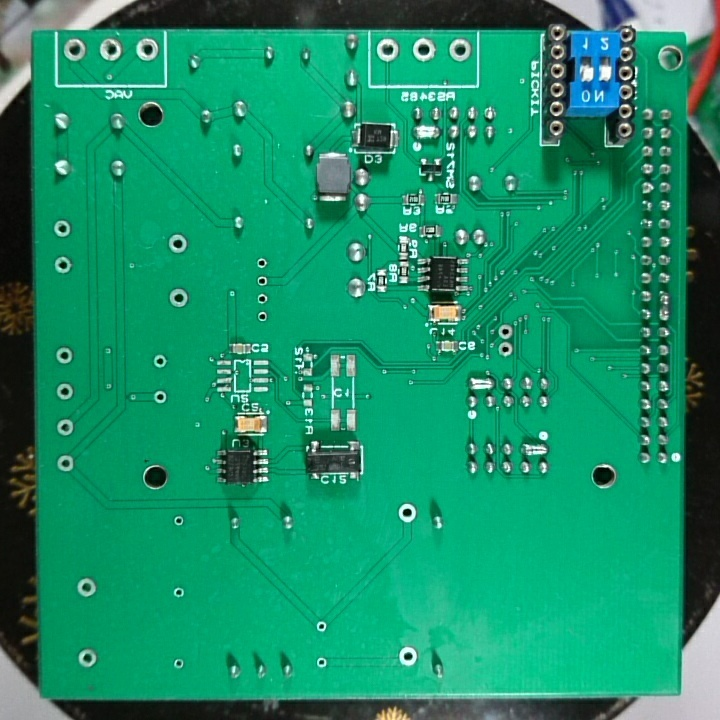F: (96, 36, 127, 66), (132, 34, 159, 67), (409, 36, 439, 65), (395, 642, 422, 674), (61, 36, 89, 66), (373, 38, 402, 65), (447, 37, 473, 67), (396, 500, 420, 530), (166, 286, 193, 312), (73, 575, 100, 601), (165, 231, 191, 257), (74, 646, 100, 672), (52, 381, 79, 404), (50, 217, 74, 242), (50, 253, 75, 277), (54, 452, 77, 478), (52, 344, 76, 368), (53, 416, 77, 439), (495, 320, 516, 343), (148, 388, 171, 409), (150, 352, 169, 374), (313, 615, 331, 638), (168, 654, 188, 674), (496, 340, 516, 360), (171, 583, 187, 604), (170, 512, 188, 530), (254, 307, 271, 326), (253, 291, 273, 307), (253, 254, 270, 272), (313, 654, 330, 672), (255, 274, 271, 291)
P: (518, 439, 552, 461), (410, 121, 443, 143), (654, 287, 673, 325), (467, 374, 497, 394)
